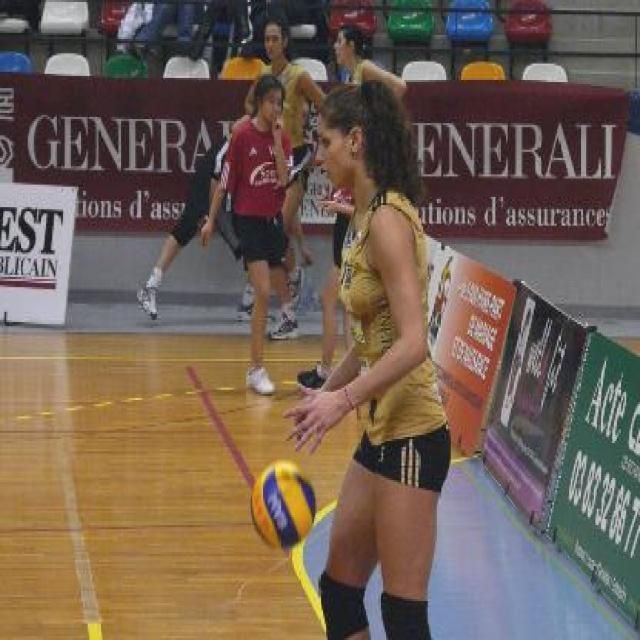volleyball: (248, 461, 316, 546)
